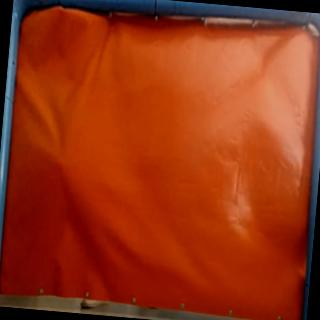Hit-hRxx: (52, 156, 70, 168)
